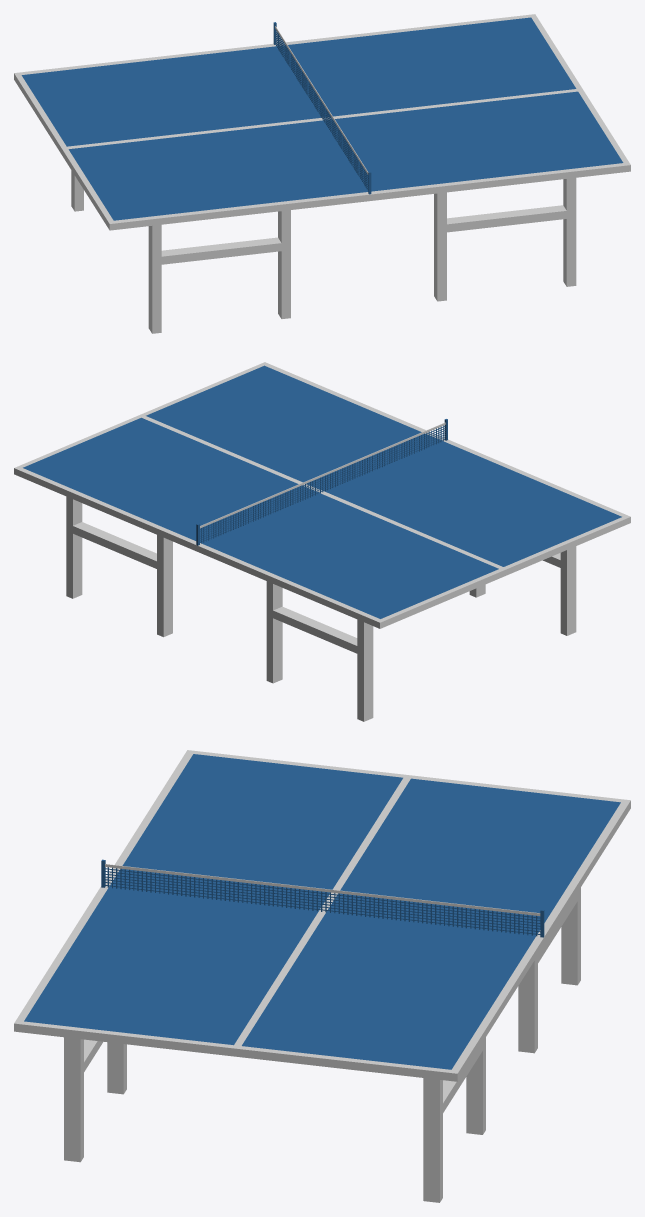
File: Table tennis table.glb
3 renders of one model, top to bottom at view 1: azimuth 30°, elevation 25°; view 2: azimuth 150°, elevation 25°; view 3: azimuth 270°, elevation 25°, orthographic. The views are drawn at different scales.
Parts seen in each view (by area): view 1: Box123, Box166, Box158, Box157, Box146, Box156, Box161; view 2: Box123, Box153, Box165, Box124, Box159, Box157, Box151, Box160, Box163; view 3: Box123, Box124, Box146, Box159, Box163, Box165, Box153, Box156.
Part boxes in pixels (x1,y1,x2,y2): Box123: [14, 14, 630, 230]; Box166: [156, 237, 281, 264]; Box158: [447, 205, 566, 232]; Box157: [148, 224, 161, 333]; Box146: [563, 178, 576, 286]; Box156: [434, 192, 446, 301]; Box161: [278, 210, 290, 318]; Box123: [14, 362, 630, 628]; Box153: [357, 619, 373, 721]; Box165: [157, 535, 172, 637]; Box124: [66, 496, 82, 598]; Box159: [266, 581, 282, 683]; Box157: [560, 546, 576, 635]; Box151: [268, 606, 360, 654]; Box160: [73, 522, 156, 568]; Box163: [200, 422, 445, 528]; Box123: [14, 750, 630, 1081]; Box124: [423, 1078, 442, 1202]; Box146: [64, 1037, 83, 1162]; Box159: [518, 955, 537, 1053]; Box163: [105, 864, 540, 915]; Box165: [466, 1037, 485, 1134]; Box153: [561, 887, 580, 985]; Box156: [107, 1042, 126, 1094].
Bounding box in the file's own units: 537642 × 142891 × 433021.
